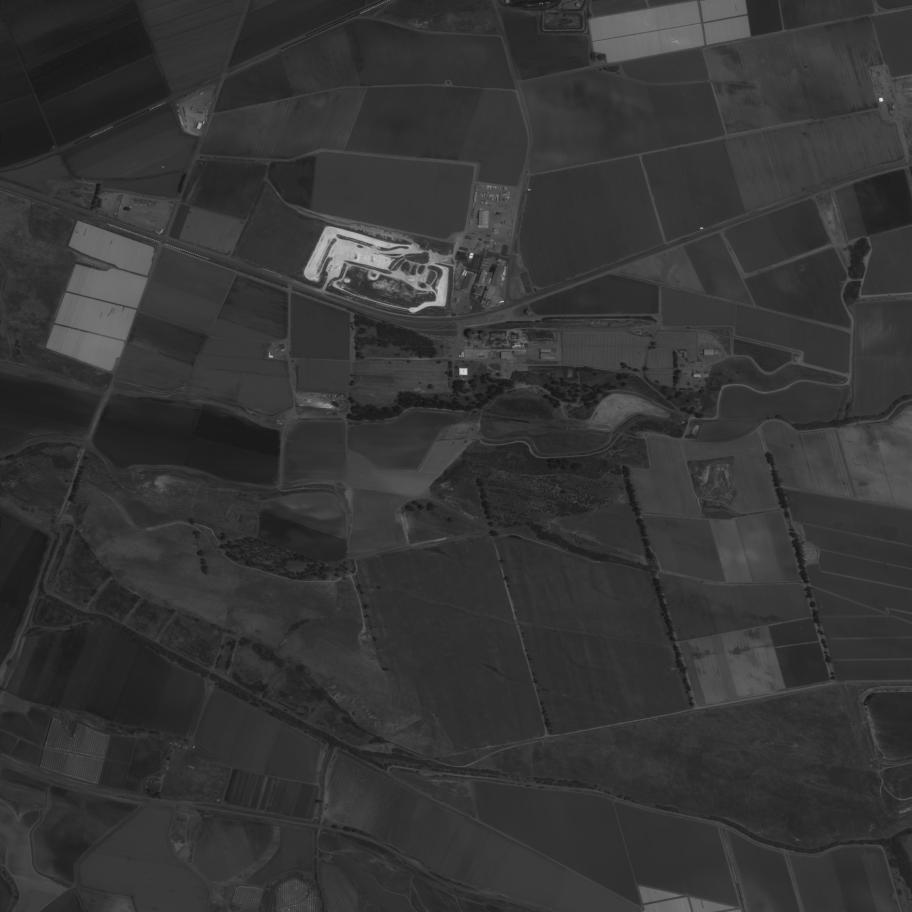storage-tank: (479, 331, 491, 341), (467, 329, 479, 339), (525, 308, 534, 316), (575, 2, 582, 7)
